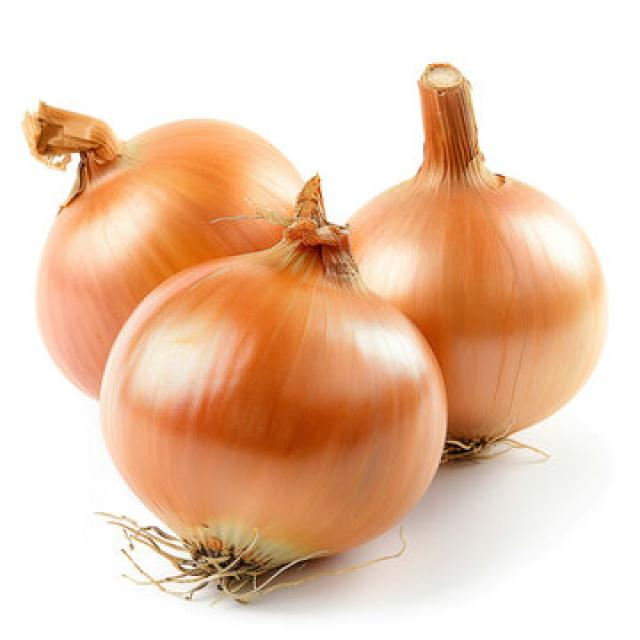Onion: (96, 170, 448, 604), (341, 60, 608, 462), (20, 98, 308, 402)
